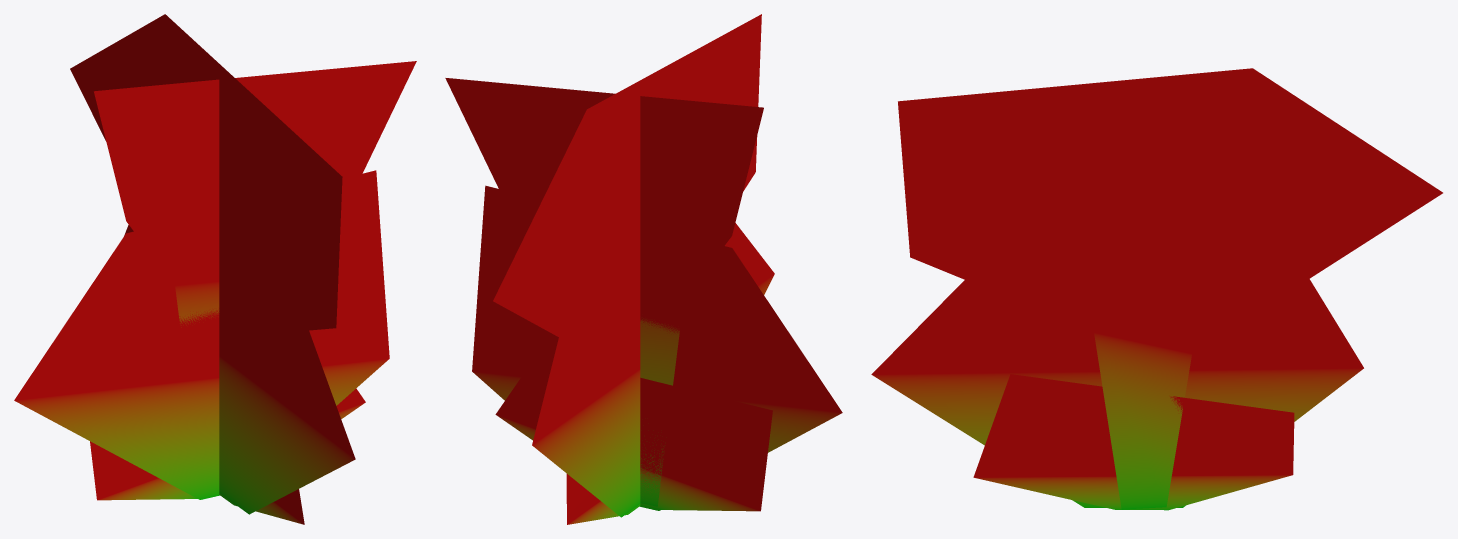
The model's file is Xeric Grass_LOD6_Var7_xjfgdhaqx.fbx.
3 renders of one model, left to right at view 1: azimuth 30°, elevation 25°; view 2: azimuth 150°, elevation 25°; view 3: azimuth 270°, elevation 25°, orthographic.
Visible parts, largest first — view 1: _a95s_Var7_LOD6; view 2: _a95s_Var7_LOD6; view 3: _a95s_Var7_LOD6.
Boxes of the visible parts, x1=… form: _a95s_Var7_LOD6: x1=14, y1=14, x2=416, y2=524; _a95s_Var7_LOD6: x1=445, y1=14, x2=842, y2=524; _a95s_Var7_LOD6: x1=871, y1=68, x2=1442, y2=510.
Bounding box in the file's own units: 336 × 353 × 413.
